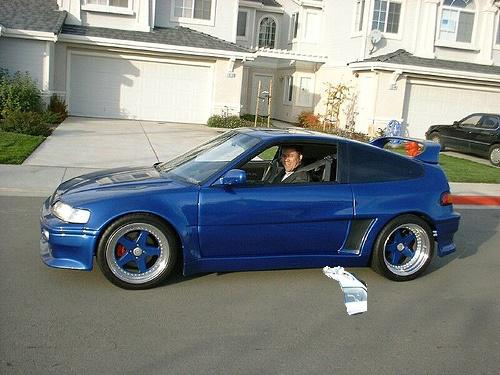tampered: (323, 267, 367, 315)
